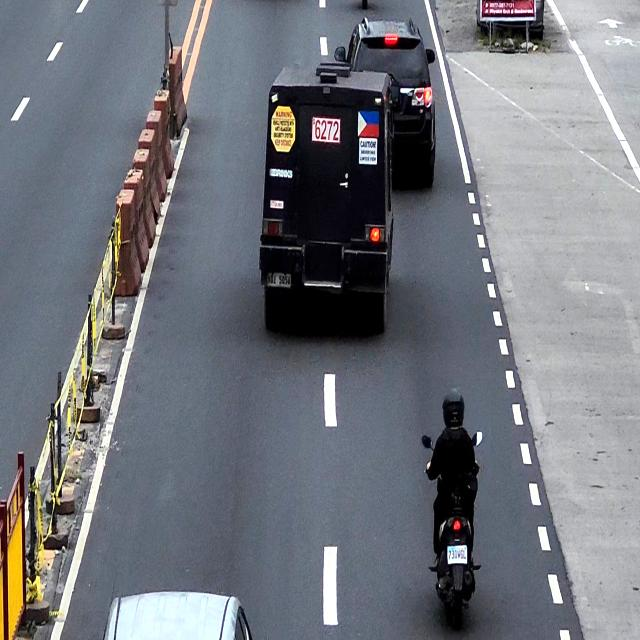Car: (258, 63, 401, 337), (335, 15, 437, 188)
License-Plate: (265, 272, 292, 290), (446, 545, 468, 564)
Motorcycle: (424, 430, 483, 630)
